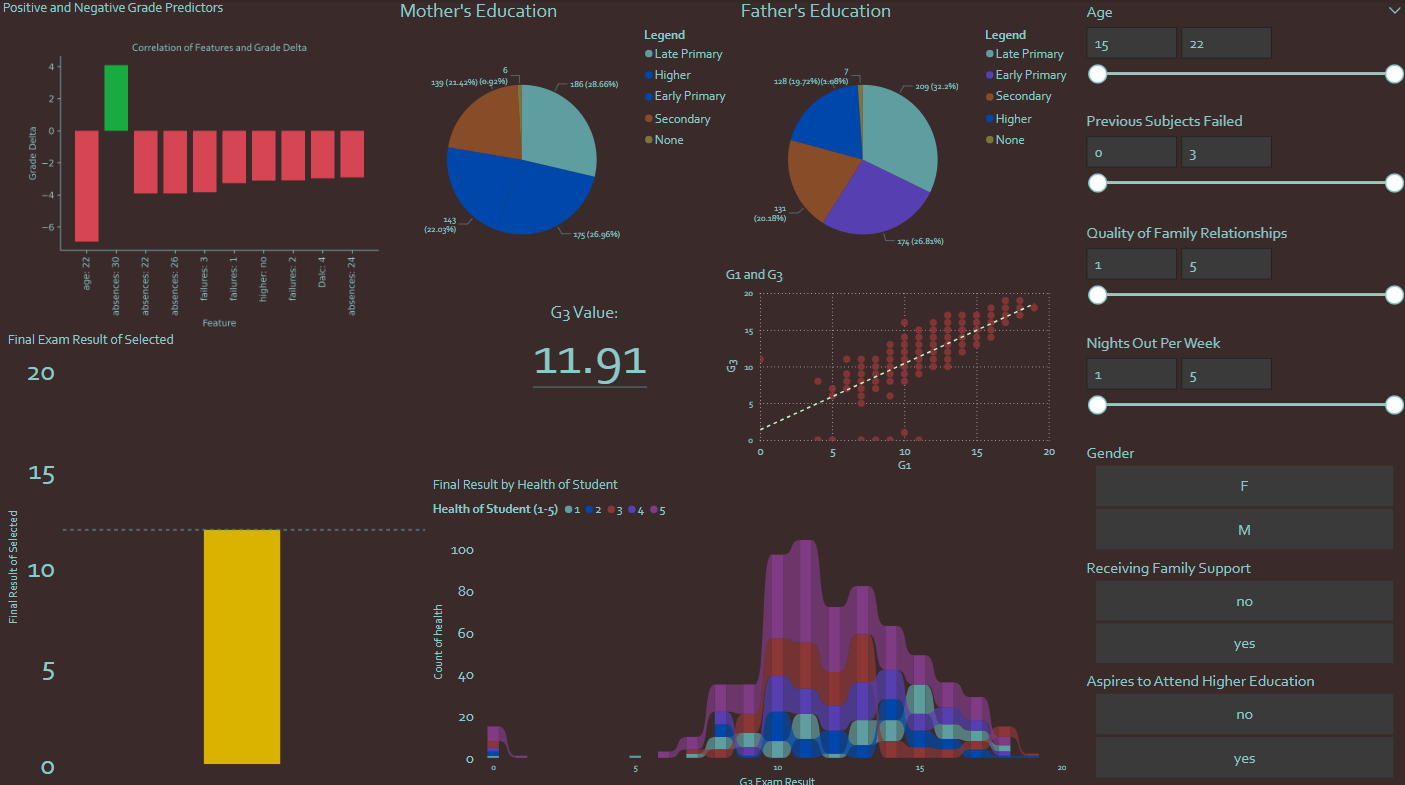

The page's visual inventory and layout, read from the dashboard file:
{"tool":"powerbi","page":{"name":"Page 1","canvas":[1920,1080],"ordinal":0},"visuals":[{"type":"pythonVisual","title":"Positive and Negative Grade Predictors","fields":{"Values":["student-por.absences","student-por.activities","student-por.age","student-por.address","student-por.Dalc","student-por.failures","student-por.famrel","student-por.famsize","student-por.famsup","student-por.Fedu","student-por.Fjob","student-por.freetime"]},"box":[0,0,585,451.7],"z":0},{"type":"slicer","fields":{"Values":["student-por.age"]},"box":[1466.7,0,453.3,151.7],"z":1000},{"type":"columnChart","title":"Final Exam Result of Selected","fields":{"Y":["Avg(student-por.G3)"],"Category":["student-por.Grade"]},"box":[6.7,451.7,578.3,620],"z":2000},{"type":"textbox","box":[585,405,423.3,195],"z":3000},{"type":"slicer","fields":{"Values":["student-por.failures"]},"box":[1466.7,148.3,453.3,151.7],"z":4000},{"type":"slicer","fields":{"Values":["student-por.famrel"]},"box":[1466.7,300,453.3,150],"z":5000},{"type":"slicer","fields":{"Values":["student-por.sex"]},"box":[1466.4,600,453.6,156.4],"z":6000},{"type":"slicer","fields":{"Values":["student-por.famsup"]},"box":[1466.4,756.4,453.6,153.6],"z":7000},{"type":"slicer","fields":{"Values":["student-por.goout"]},"box":[1466.4,450,453.6,150],"z":8000},{"type":"pieChart","title":"Mother''s Education","fields":{"Category":["student-por.Mother's Education"],"Y":["CountNonNull(student-por.Mother's Education)"]},"box":[540,0,463.3,405],"z":9000},{"type":"ribbonChart","title":"Final Result by Health of Student","fields":{"Category":["student-por.G3"],"Series":["student-por.health"],"Y":["CountNonNull(student-por.health)"]},"box":[585,648.3,881.7,431.7],"z":10000},{"type":"pieChart","title":"Father''s Education","fields":{"Category":["student-por.Father's Education"],"Y":["CountNonNull(student-por.Father's Education)"]},"box":[1003.3,0,463.3,405],"z":11000},{"type":"scatterChart","fields":{"X":["student-por.G1"],"Y":["student-por.G3"]},"box":[983.4,363.2,458.4,285.6],"z":12000},{"type":"slicer","fields":{"Values":["student-por.higher"]},"box":[1466.4,910,453.6,156.4],"z":14000}]}

Visuals, with their boxes in screenshot pixels (x1, y1, x2, y2), scaled from the page's 1920x1080 canvas onto the 1405x785 screenshot:
"Positive and Negative Grade Predictors" pythonVisual: x1=0, y1=0, x2=428, y2=328
slicer - student-por.age: x1=1073, y1=0, x2=1404, y2=110
"Final Exam Result of Selected" columnChart: x1=5, y1=328, x2=428, y2=779
textbox: x1=428, y1=294, x2=738, y2=436
slicer - student-por.failures: x1=1073, y1=108, x2=1404, y2=218
slicer - student-por.famrel: x1=1073, y1=218, x2=1404, y2=327
slicer - student-por.sex: x1=1073, y1=436, x2=1404, y2=550
slicer - student-por.famsup: x1=1073, y1=550, x2=1404, y2=661
slicer - student-por.goout: x1=1073, y1=327, x2=1404, y2=436
"Mother''s Education" pieChart: x1=395, y1=0, x2=734, y2=294
"Final Result by Health of Student" ribbonChart: x1=428, y1=471, x2=1073, y2=784
"Father''s Education" pieChart: x1=734, y1=0, x2=1073, y2=294
scatterChart - student-por.G1 x student-por.G3: x1=720, y1=264, x2=1055, y2=472
slicer - student-por.higher: x1=1073, y1=661, x2=1404, y2=775
